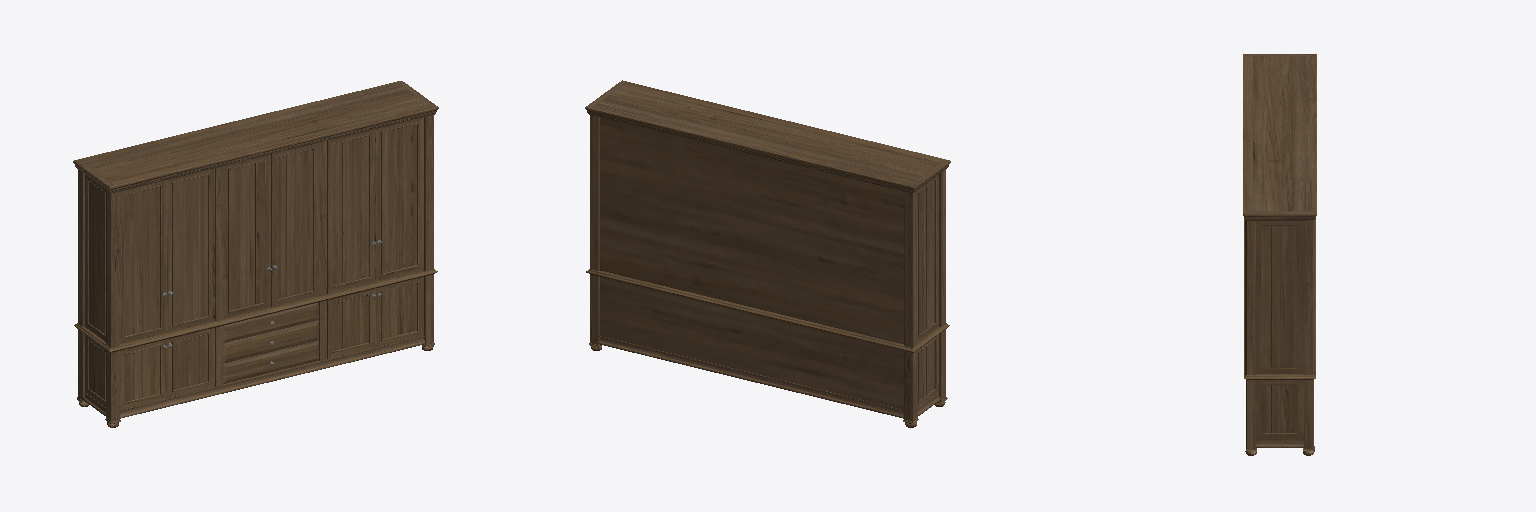
3 views of the same model, side by side, from view 1: azimuth 30°, elevation 25°; view 2: azimuth 150°, elevation 25°; view 3: azimuth 270°, elevation 25° (orthographic).
Parts seen in each view (by area): view 1: solid_003, solid_002; view 2: solid_003; view 3: solid_003.
Boxes of the visible parts, <box> form: solid_003: <box>73,81,438,421</box>; solid_002: <box>105,123,434,427</box>; solid_003: <box>585,80,950,427</box>; solid_003: <box>1243,54,1316,448</box>.
Size of the model in its own units: 2.84 by 2.01 by 0.551.
1 materials, 1 textured.